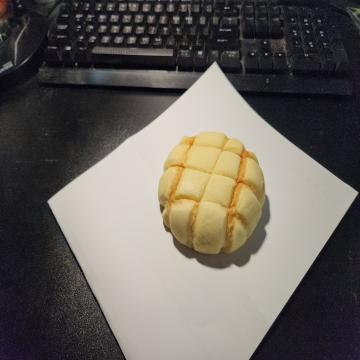melon_bread: (158, 132, 267, 256)
